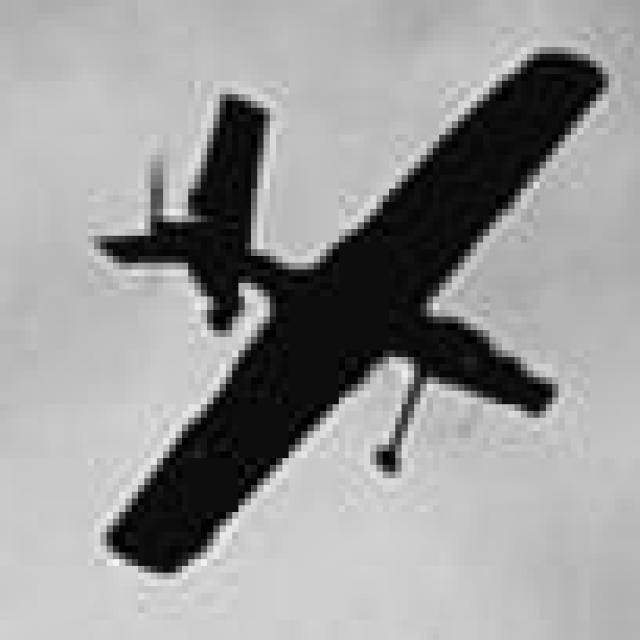iha: (36, 17, 602, 566)
